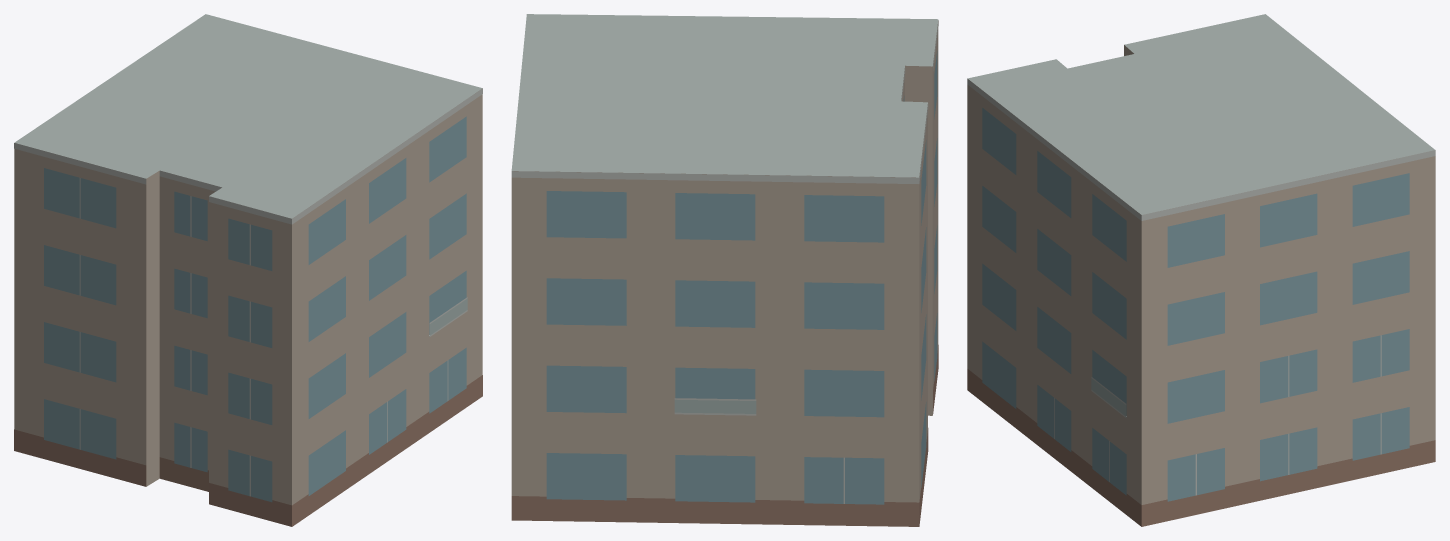
The model's file is survey-upis-32864682.glb.
The picture shows the model from 3 angles, left to right: view 1: azimuth 30°, elevation 25°; view 2: azimuth 150°, elevation 25°; view 3: azimuth 270°, elevation 25°; orthographic projection. The views are drawn at different scales.
Visible parts, largest first — view 1: survey-upis-32864682.tmp; view 2: survey-upis-32864682.tmp; view 3: survey-upis-32864682.tmp.
Boxes of the visible parts, box(x1,y1,x2,y2) form: survey-upis-32864682.tmp: box(14, 14, 482, 526); survey-upis-32864682.tmp: box(511, 14, 938, 526); survey-upis-32864682.tmp: box(967, 14, 1435, 526).
Bounding box in the file's own units: 17.72 × 12.8 × 17.43.
